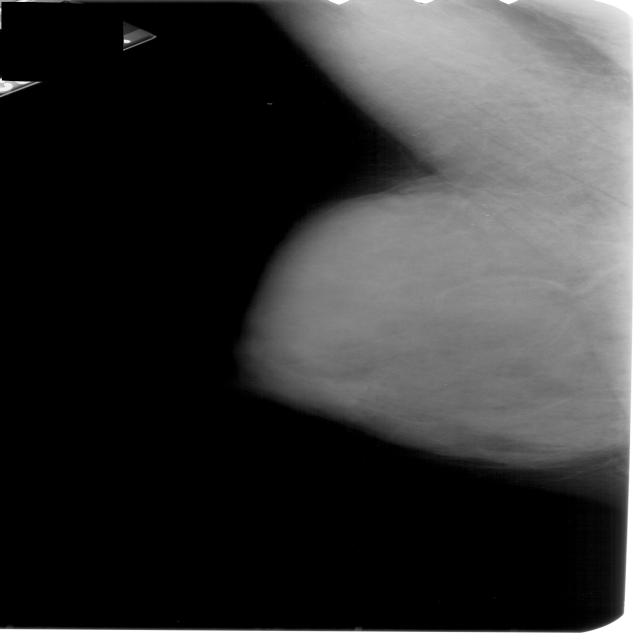normal: (205, 0, 640, 470)
